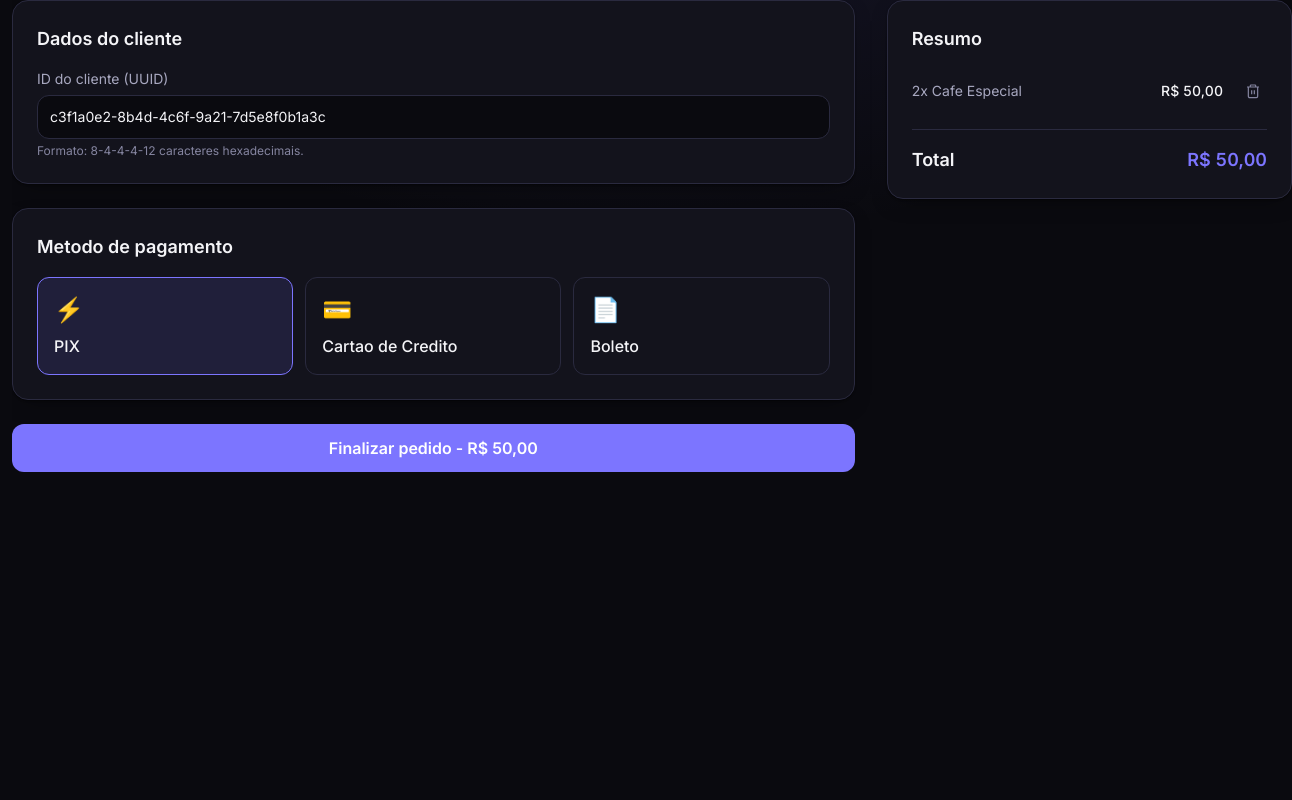
Test: CheckoutForm › valida o ID do cliente antes de chamar a API
The width and height of the screenshot is (1292, 800).
Replace the text in the field with "id-invalido" at coordinates (433, 117), box [37,95,830,139]
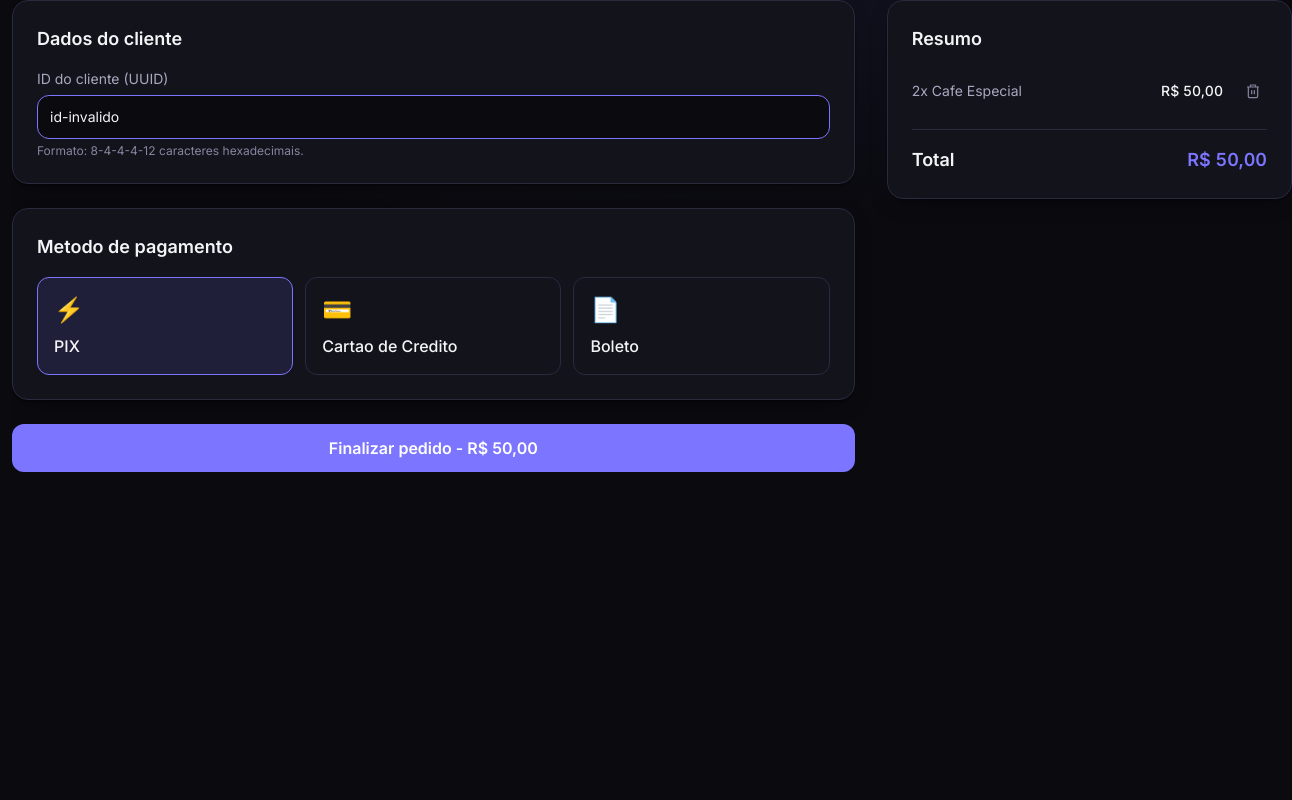
Click the button "Finalizar pedido - R$ 50,00" at coordinates (433, 448), box [12,424,855,472]
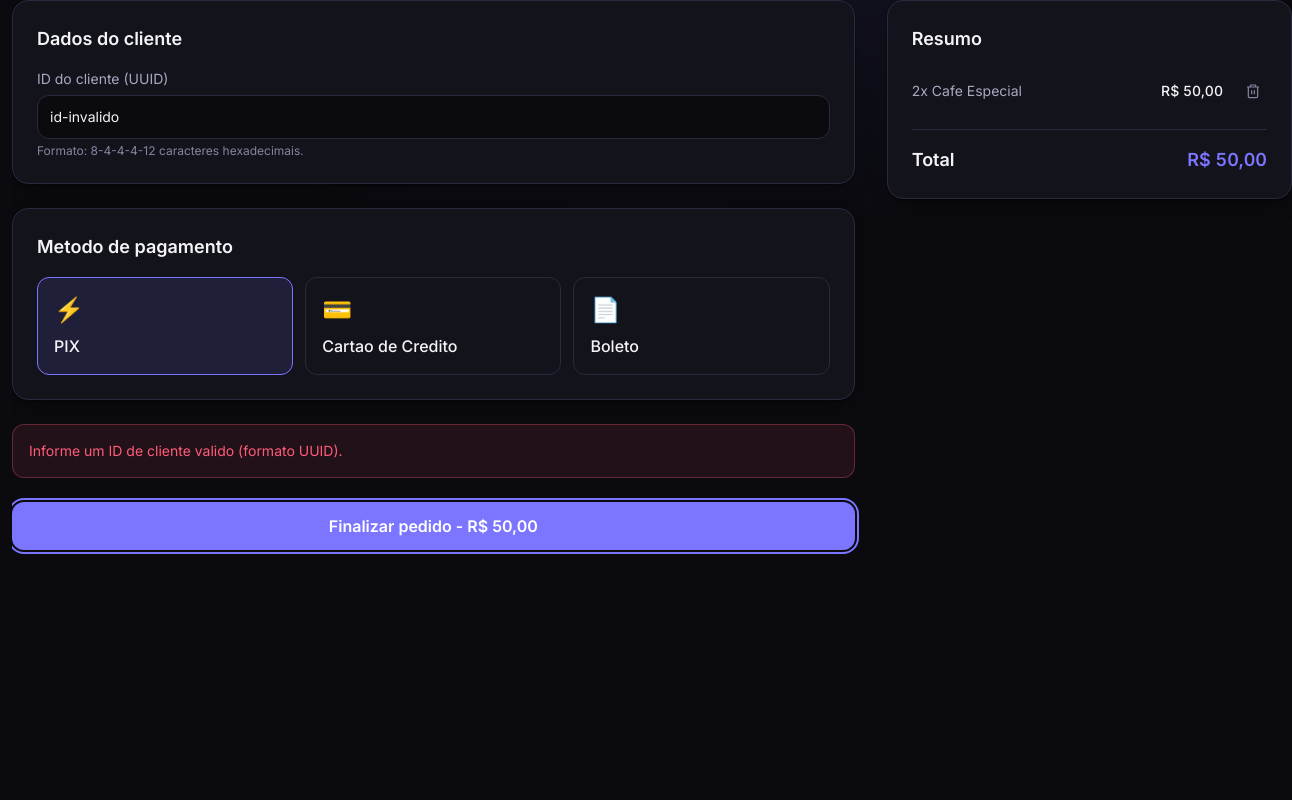
Check: the message shows "ID de cliente valido", box [29,442,343,459]
